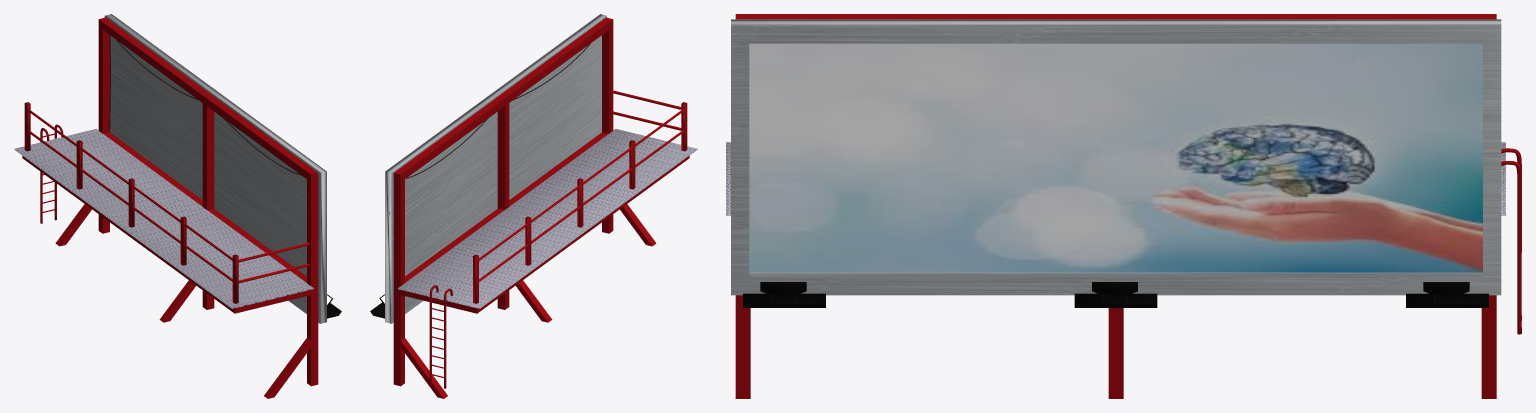
Rendered from outdoor.glb.
3 views of the same model, side by side, from view 1: azimuth 30°, elevation 25°; view 2: azimuth 150°, elevation 25°; view 3: azimuth 270°, elevation 25° (orthographic). The views are drawn at different scales.
Parts seen in each view (by area): view 1: Cube, Plane, Cube.001, NurbsPath.003, NurbsPath, BezierCurve; view 2: Cube, Plane, Cube.001, NurbsPath.003, NurbsPath; view 3: Cube, Cube.001, Plane.003, NurbsPath, Plane.
Part boxes in pixels (box(x1,y1,x2,y2)): Cube: box(104, 14, 326, 323); Plane: box(14, 129, 313, 308); Cube.001: box(22, 17, 318, 398); NurbsPath.003: box(24, 102, 309, 303); NurbsPath: box(40, 124, 63, 223); BezierCurve: box(109, 35, 301, 175); Cube: box(385, 14, 606, 323); Plane: box(398, 129, 697, 308); Cube.001: box(393, 17, 689, 398); NurbsPath.003: box(473, 90, 687, 303); NurbsPath: box(429, 285, 452, 388); Cube: box(731, 19, 1501, 295); Cube.001: box(735, 14, 1496, 398); Plane.003: box(743, 282, 1488, 307); NurbsPath: box(1501, 148, 1521, 334); Plane: box(726, 142, 1505, 215).
Size of the model in its own units: 5.7 by 10.22 by 19.2.
7 materials, 3 textured.
